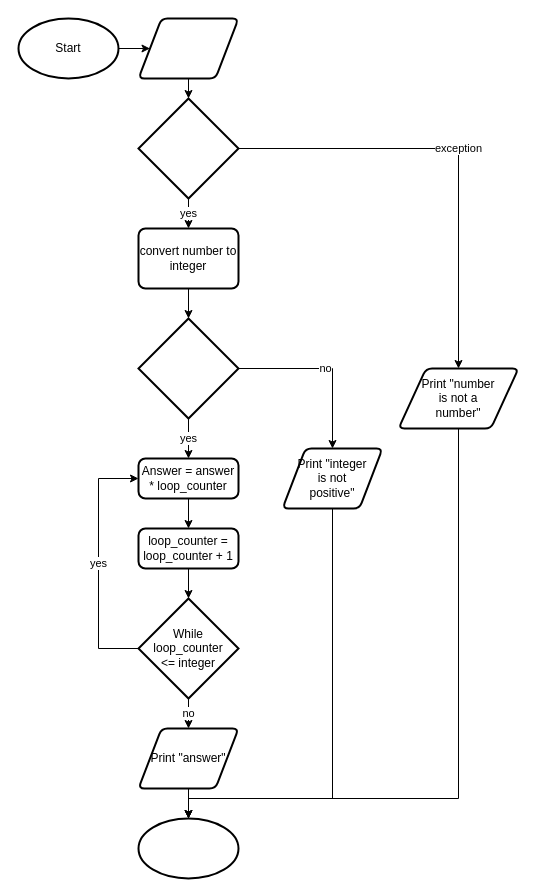
This 536x896 diagram has some shape labels left out. The centre of each missing label's shape, as x and y in pixels:
Get number: point 188,48
If integer >= 0: point 188,368
Stop: point 188,848
Try: point 188,148
